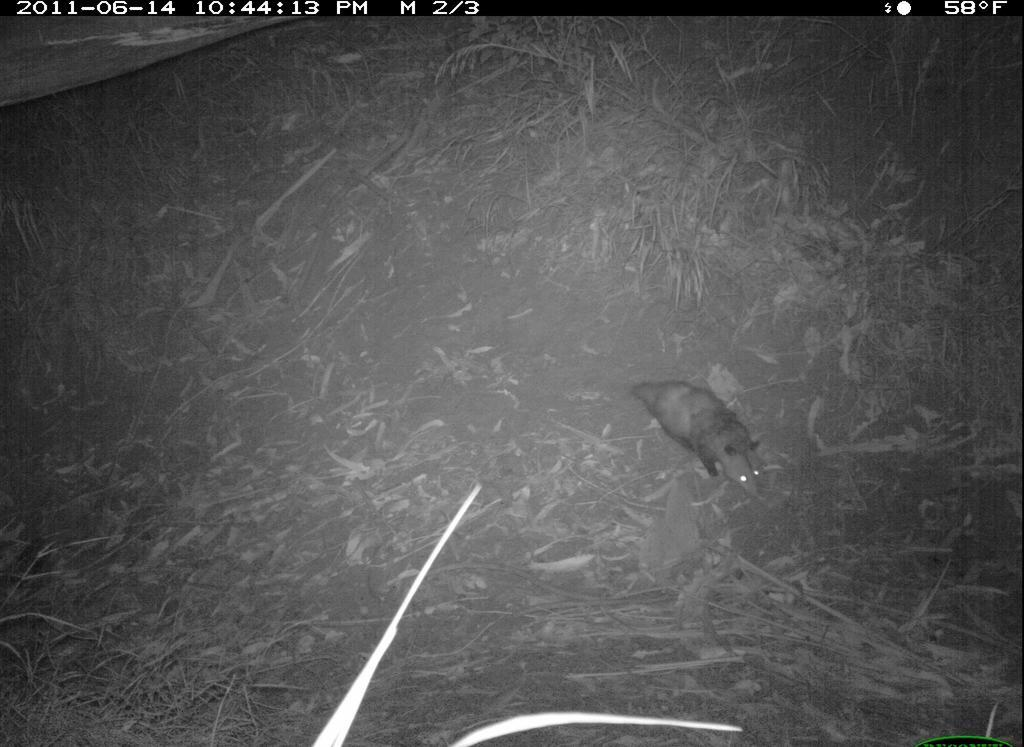opossum: (596, 350, 808, 511)
